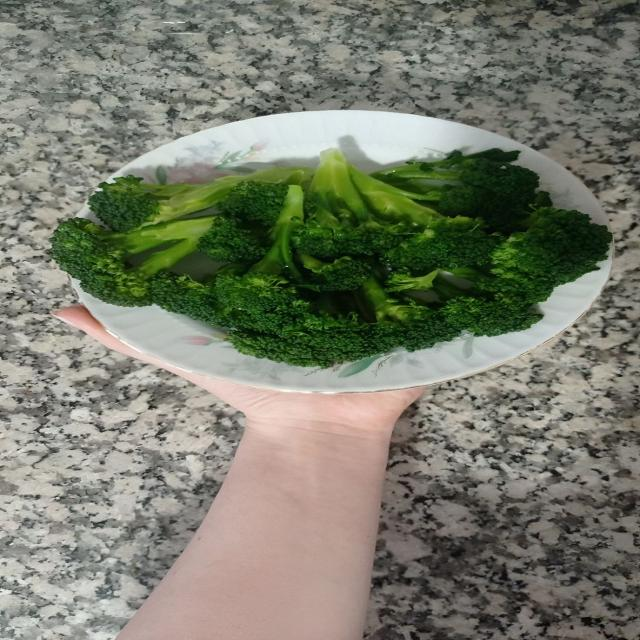broccoli: (51, 149, 611, 367), (294, 149, 442, 259), (448, 208, 612, 303), (51, 217, 212, 306), (89, 167, 308, 232), (374, 150, 548, 230), (214, 186, 303, 312), (150, 264, 311, 332), (311, 149, 440, 226), (389, 272, 541, 336), (493, 208, 612, 285), (228, 314, 394, 367), (363, 275, 461, 351), (199, 180, 288, 262), (384, 217, 499, 272), (149, 264, 246, 327), (372, 148, 519, 180), (293, 207, 373, 259), (440, 295, 541, 336), (449, 267, 555, 303), (198, 215, 268, 263), (218, 180, 287, 228), (300, 255, 372, 290), (386, 269, 439, 291)
